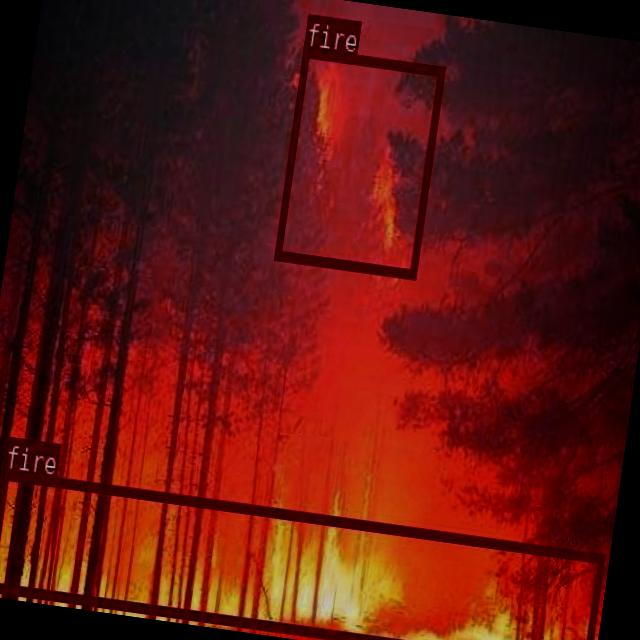fire: (0, 468, 603, 640), (274, 45, 444, 278)
